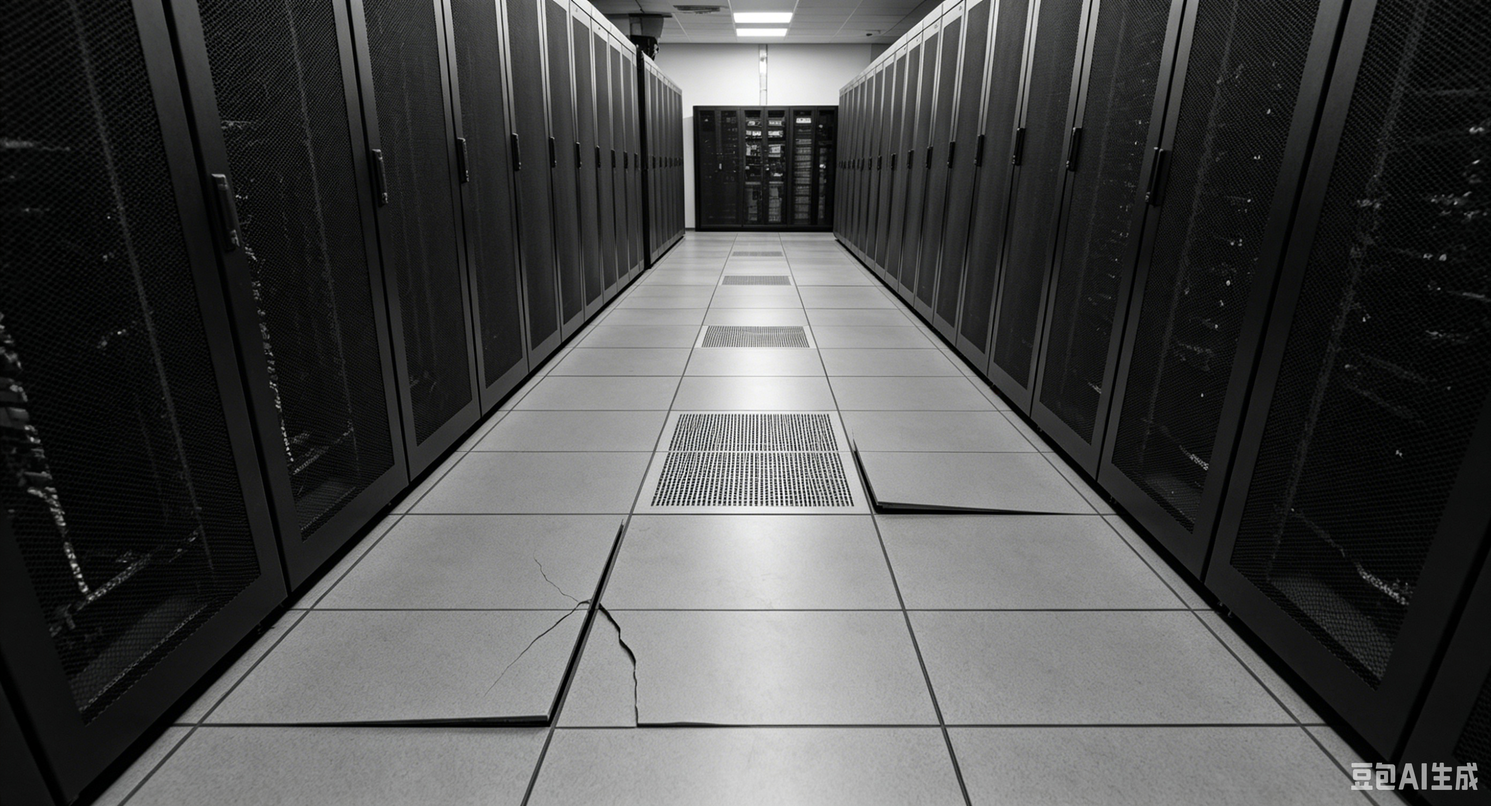floor_defect: (840, 437, 1143, 534), (193, 696, 588, 734), (648, 685, 797, 743), (481, 612, 563, 691), (595, 604, 642, 733), (526, 556, 607, 612), (573, 511, 648, 564)
